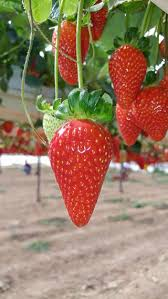ripe: (48, 114, 110, 230), (48, 18, 91, 91), (106, 47, 151, 109), (37, 98, 84, 143), (109, 96, 146, 146), (141, 79, 166, 145)
